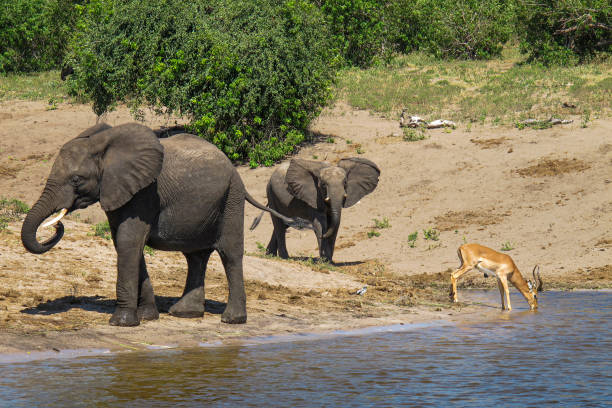africanelephant: (311, 153, 355, 240)
